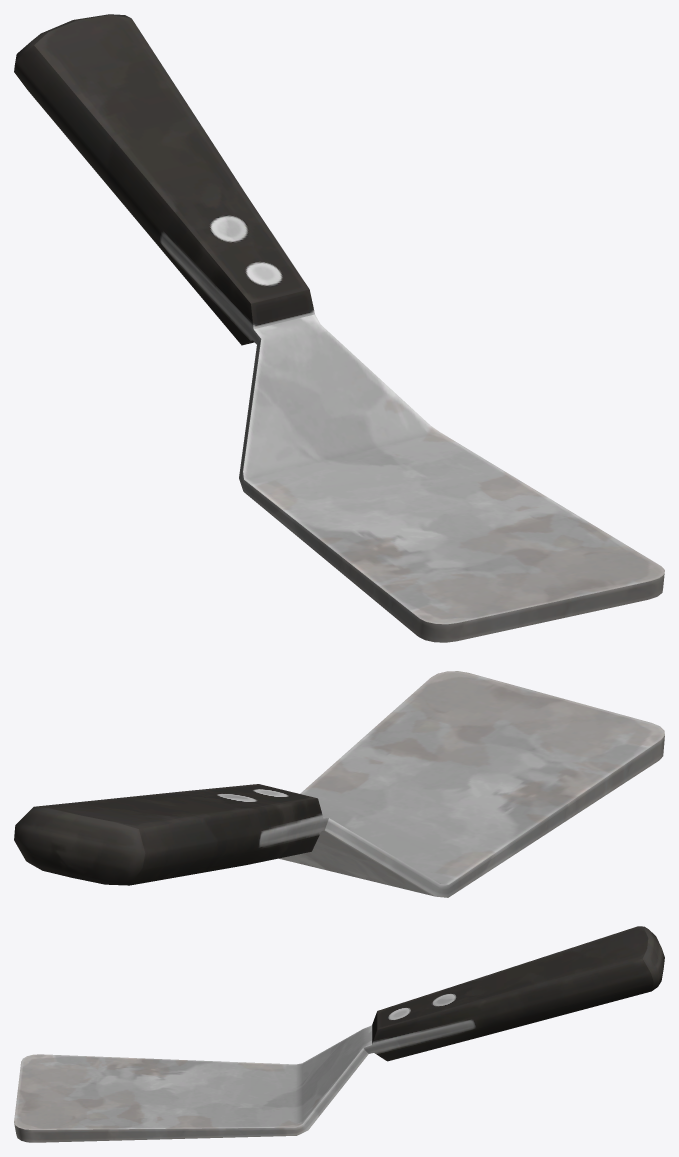
File: SM_GrillSpatula.glb
3 renders of one model, top to bottom at view 1: azimuth 30°, elevation 25°; view 2: azimuth 150°, elevation 25°; view 3: azimuth 270°, elevation 25°, orthographic. The views are drawn at different scales.
Parts seen in each view (by area): view 1: SM_GrillSpatula; view 2: SM_GrillSpatula; view 3: SM_GrillSpatula.
Part boxes in pixels (x1,y1,x2,y2): SM_GrillSpatula: (14,14,664,642); SM_GrillSpatula: (14,671,664,897); SM_GrillSpatula: (14,926,664,1142).
Size of the model in its own units: 0.0996 by 0.1023 by 0.3617.
Materials: 1 (1 with a texture image).
